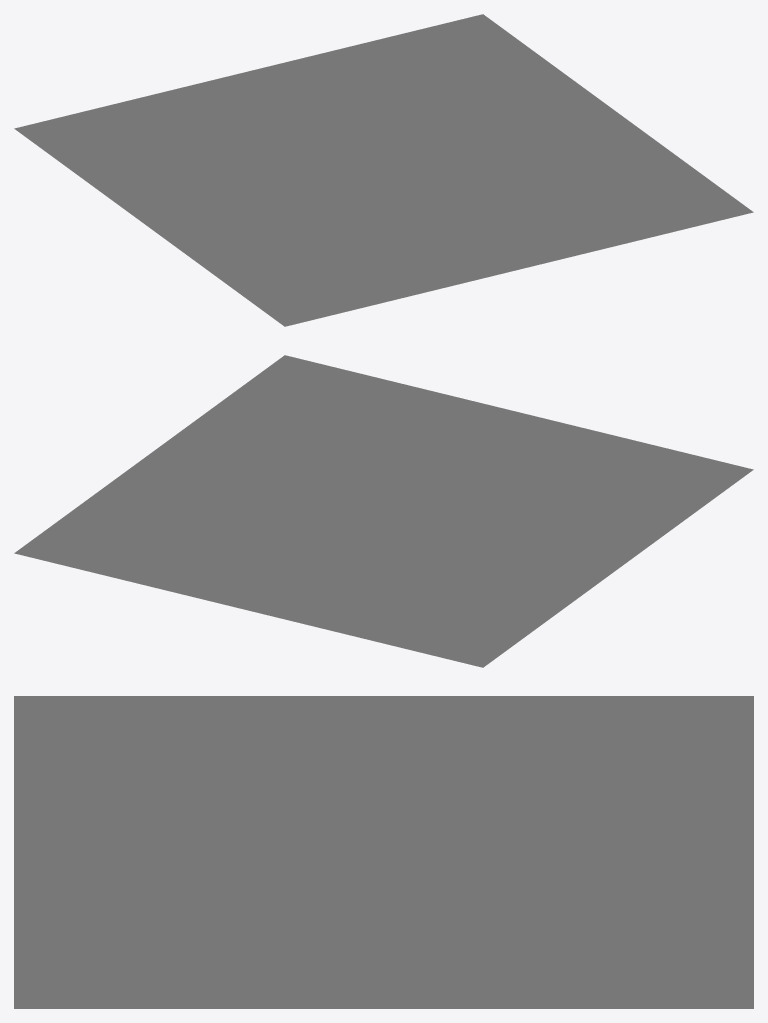
Rendered from q-scifi-mod-platform-darkplates.glb.
3 views of the same model, one above another, from view 1: azimuth 30°, elevation 25°; view 2: azimuth 150°, elevation 25°; view 3: azimuth 270°, elevation 25° (orthographic). The views are drawn at different scales.
Visible parts, largest first — view 1: Platform_DarkPlates; view 2: Platform_DarkPlates; view 3: Platform_DarkPlates.
Boxes of the visible parts, box(x1,y1,x2,y2) form: Platform_DarkPlates: box(14, 14, 753, 326); Platform_DarkPlates: box(14, 355, 753, 667); Platform_DarkPlates: box(14, 696, 753, 1008).
Size of the model in its own units: 4 by 0 by 4.
1 material, 1 textured.
